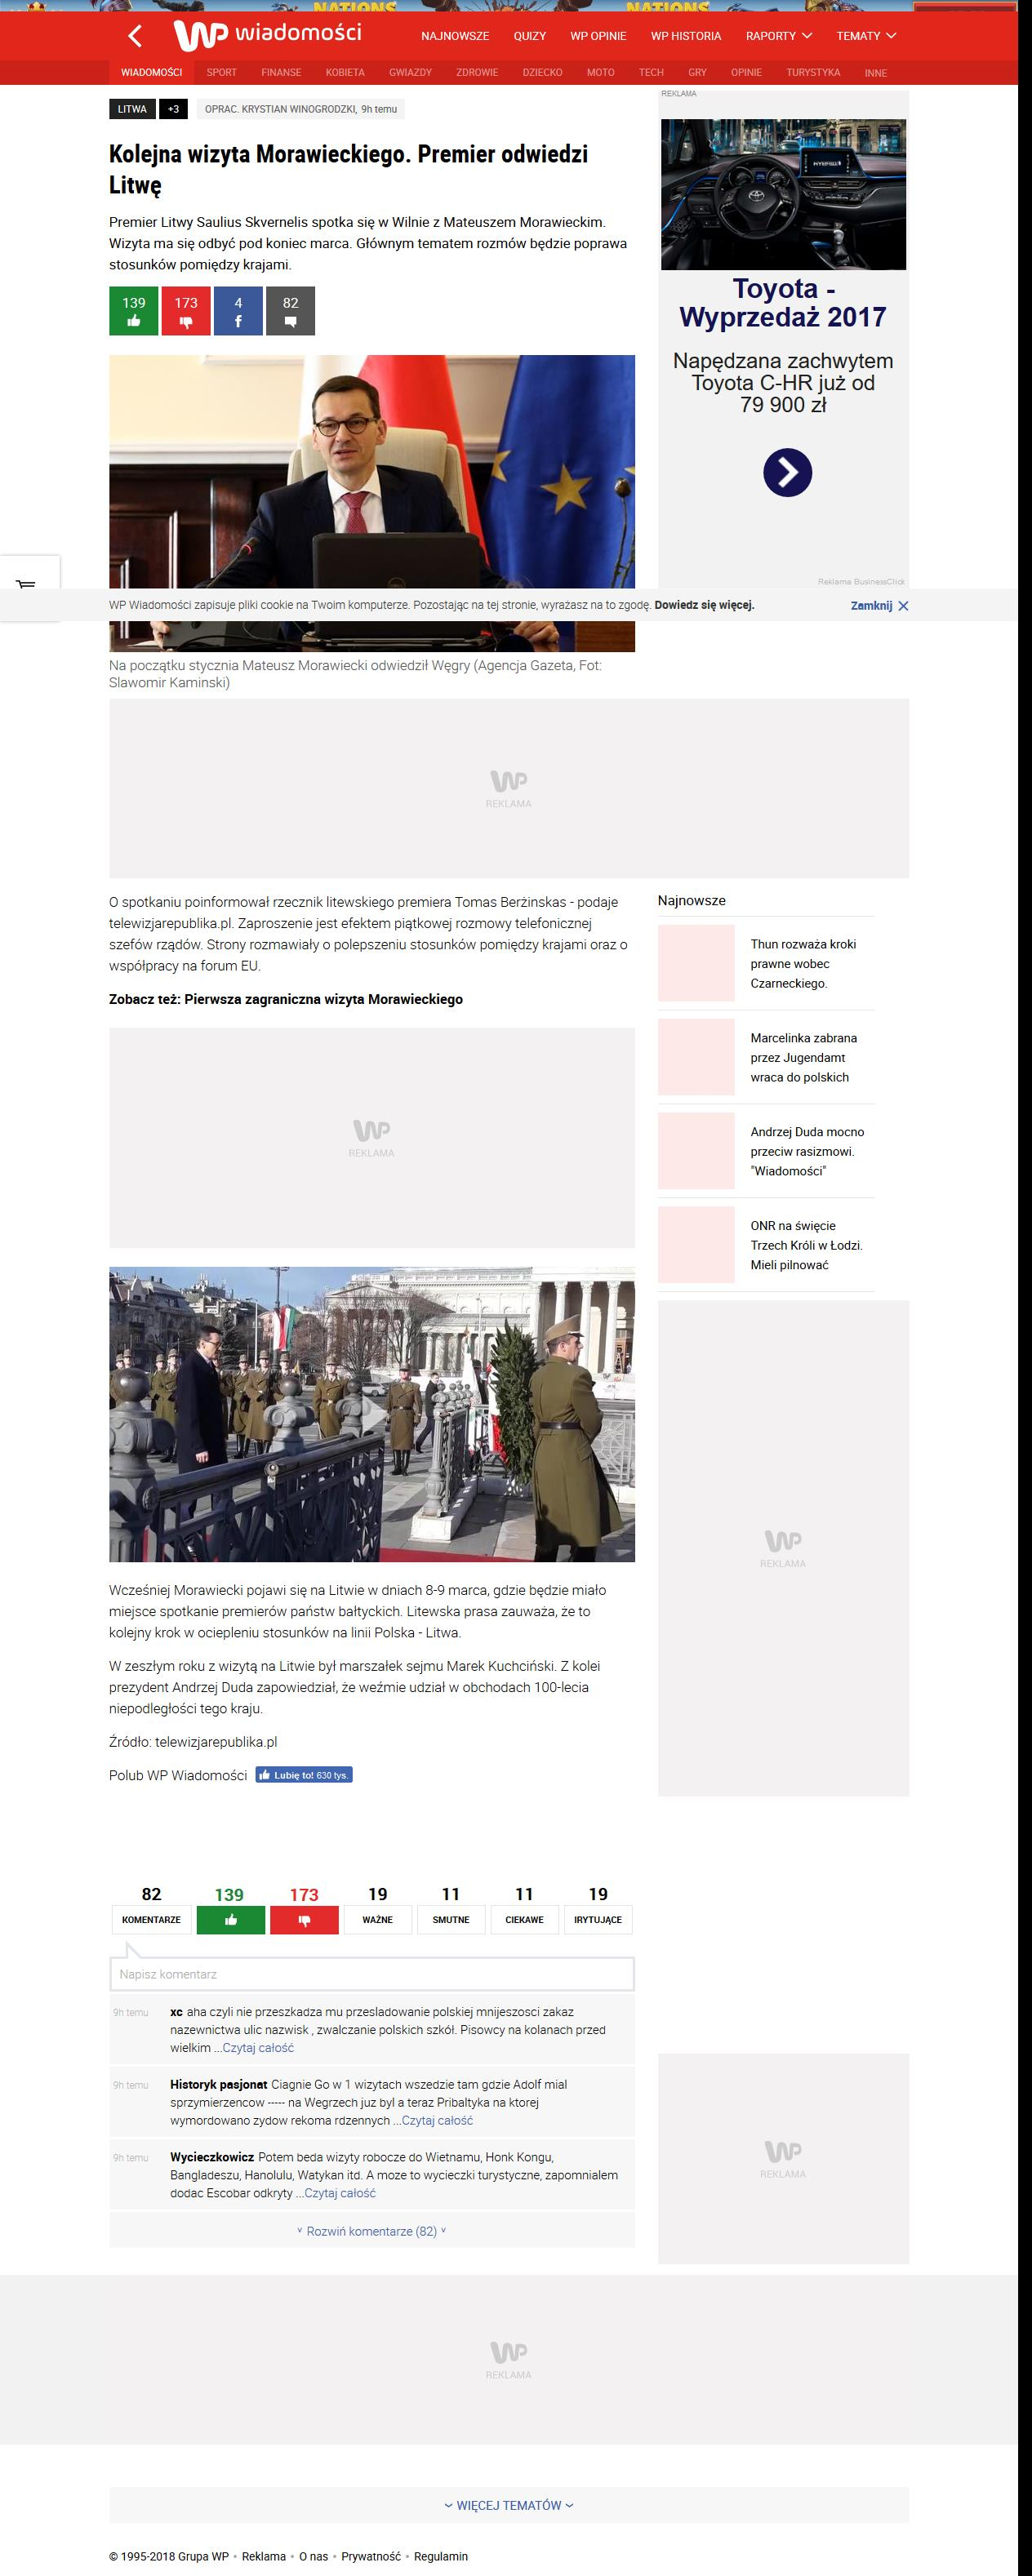title: (108, 141, 588, 199)
